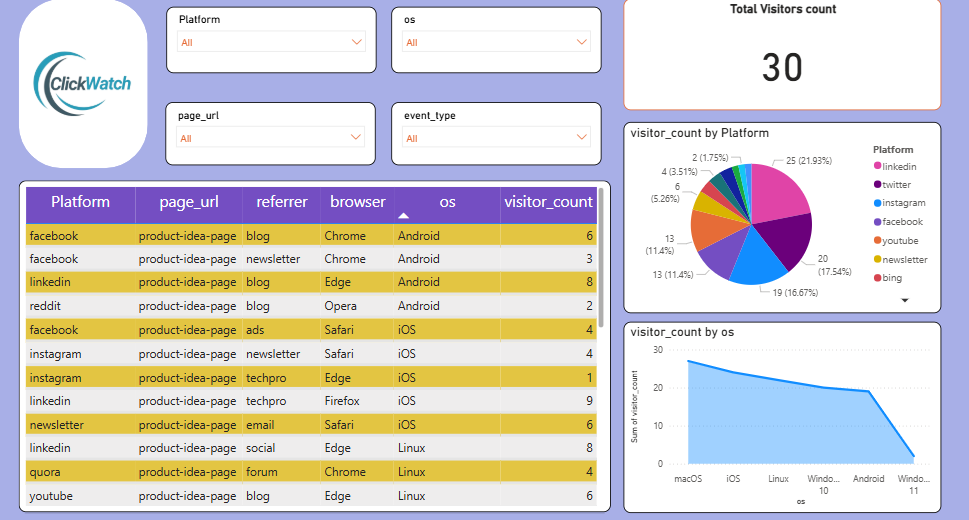

This screenshot's page, from the dashboard's own definition file:
{"tool":"powerbi","page":{"name":"Page 1","canvas":[1280,720],"ordinal":0},"visuals":[{"type":"tableEx","fields":{"Values":["final_cookies.Platform","final_cookies.page_url","final_cookies.referrer","final_cookies.browser","final_cookies.os","visit_count.visitor_count"]},"box":[15.9,251.2,801.4,449.1],"z":0},{"type":"slicer","fields":{"Values":["final_cookies.Platform"]},"box":[215.1,15.9,284.5,89.5],"z":1000},{"type":"slicer","fields":{"Values":["final_cookies.os"]},"box":[519.8,15.9,284.5,89.5],"z":2000},{"type":"slicer","fields":{"Values":["final_cookies.event_type"]},"box":[519.8,144.4,284.5,85.2],"z":3000},{"type":"pieChart","title":"visitor_count by Platform","fields":{"Category":["final_cookies.Platform"],"Y":["Sum(visit_count.visitor_count)"]},"box":[834.6,171.8,430.3,258.5],"z":4000},{"type":"card","title":"Total Visitors count","fields":{"Values":["CountNonNull(visit_count.visitor_count)"]},"box":[834.6,4.3,430.3,151.6],"z":5000},{"type":"stackedAreaChart","title":"visitor_count by os","fields":{"Category":["final_cookies.os"],"Y":["Sum(visit_count.visitor_count)"]},"box":[834.6,441.9,430.3,258.5],"z":6000},{"type":"slicer","fields":{"Values":["final_cookies.page_url"]},"box":[213.7,144.4,284.5,85.2],"z":7000},{"type":"actionButton","box":[15.9,4.3,174.7,229.6],"z":7001}]}

Visuals, with their boxes in screenshot pixels (x1, y1, x2, y2):
tableEx - final_cookies.Platform x final_cookies.page_url: [17,178,608,509]
slicer - final_cookies.Platform: [164,4,374,70]
slicer - final_cookies.os: [389,4,599,70]
slicer - final_cookies.event_type: [389,99,599,162]
"visitor_count by Platform" pieChart: [621,119,939,310]
"Total Visitors count" card: [621,0,939,108]
"visitor_count by os" stackedAreaChart: [621,319,939,509]
slicer - final_cookies.page_url: [163,99,373,162]
actionButton: [17,0,146,165]
